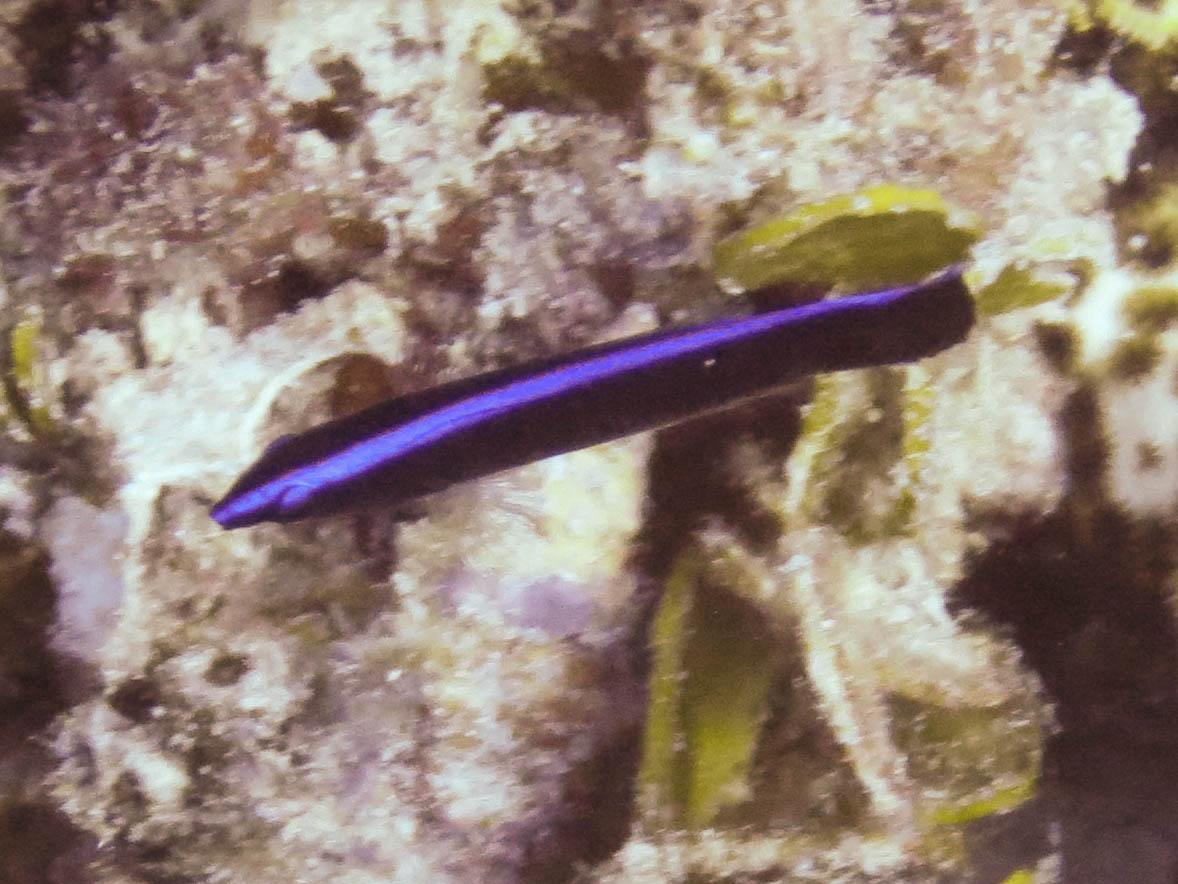Fish: (153, 248, 1052, 542)
